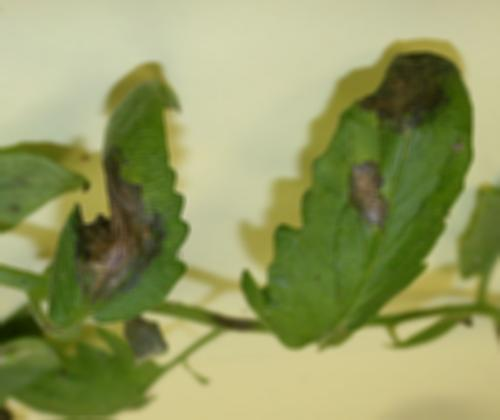Tomato leaf late blight: (236, 48, 474, 380), (41, 68, 202, 333)
